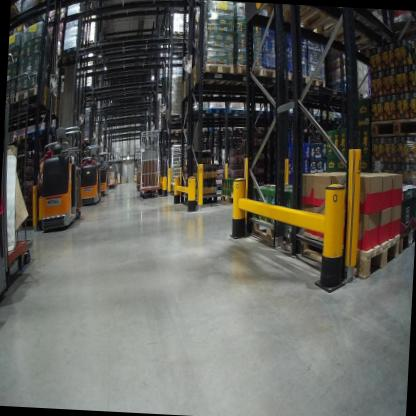forklift: (109, 158, 120, 190)
pallet: (287, 218, 403, 281), (258, 5, 342, 35), (246, 208, 296, 255), (195, 58, 237, 104), (14, 83, 56, 129), (228, 59, 264, 101), (4, 89, 35, 133), (368, 112, 416, 139), (57, 40, 84, 72), (325, 79, 358, 100), (397, 225, 414, 257), (262, 65, 286, 86), (219, 192, 243, 211), (286, 67, 309, 86), (307, 74, 327, 89), (12, 128, 27, 147), (189, 103, 209, 116), (25, 126, 40, 143), (208, 104, 226, 117), (225, 107, 244, 119), (169, 29, 184, 43), (167, 125, 184, 136), (219, 123, 232, 137), (323, 113, 334, 126), (231, 123, 245, 133), (254, 125, 268, 134), (313, 112, 325, 120)
pallet_truck: (0, 128, 41, 307), (32, 130, 90, 234), (72, 140, 103, 208), (92, 151, 111, 202)
